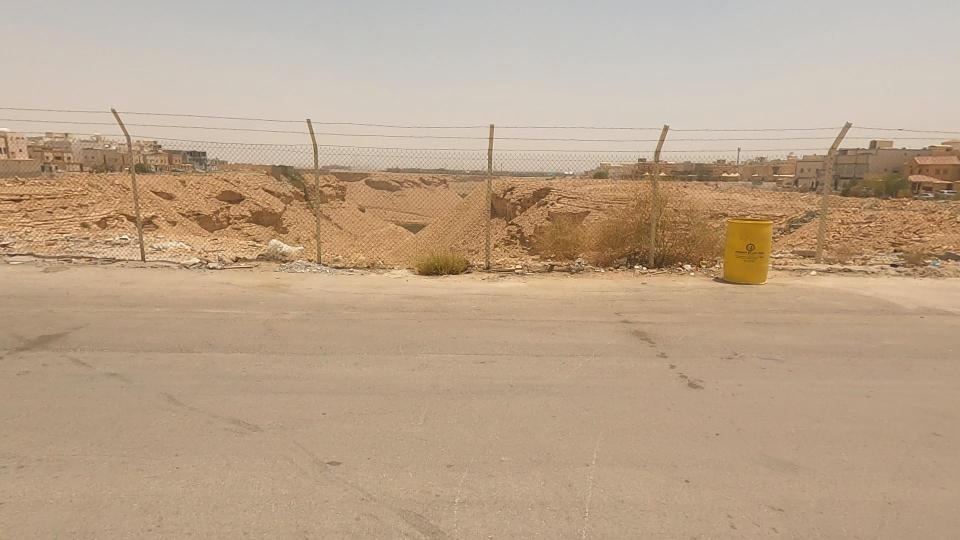GARBAGE: (222, 216, 332, 279), (644, 229, 720, 297), (80, 218, 162, 262), (903, 238, 958, 289), (611, 252, 662, 287), (141, 229, 193, 262)
